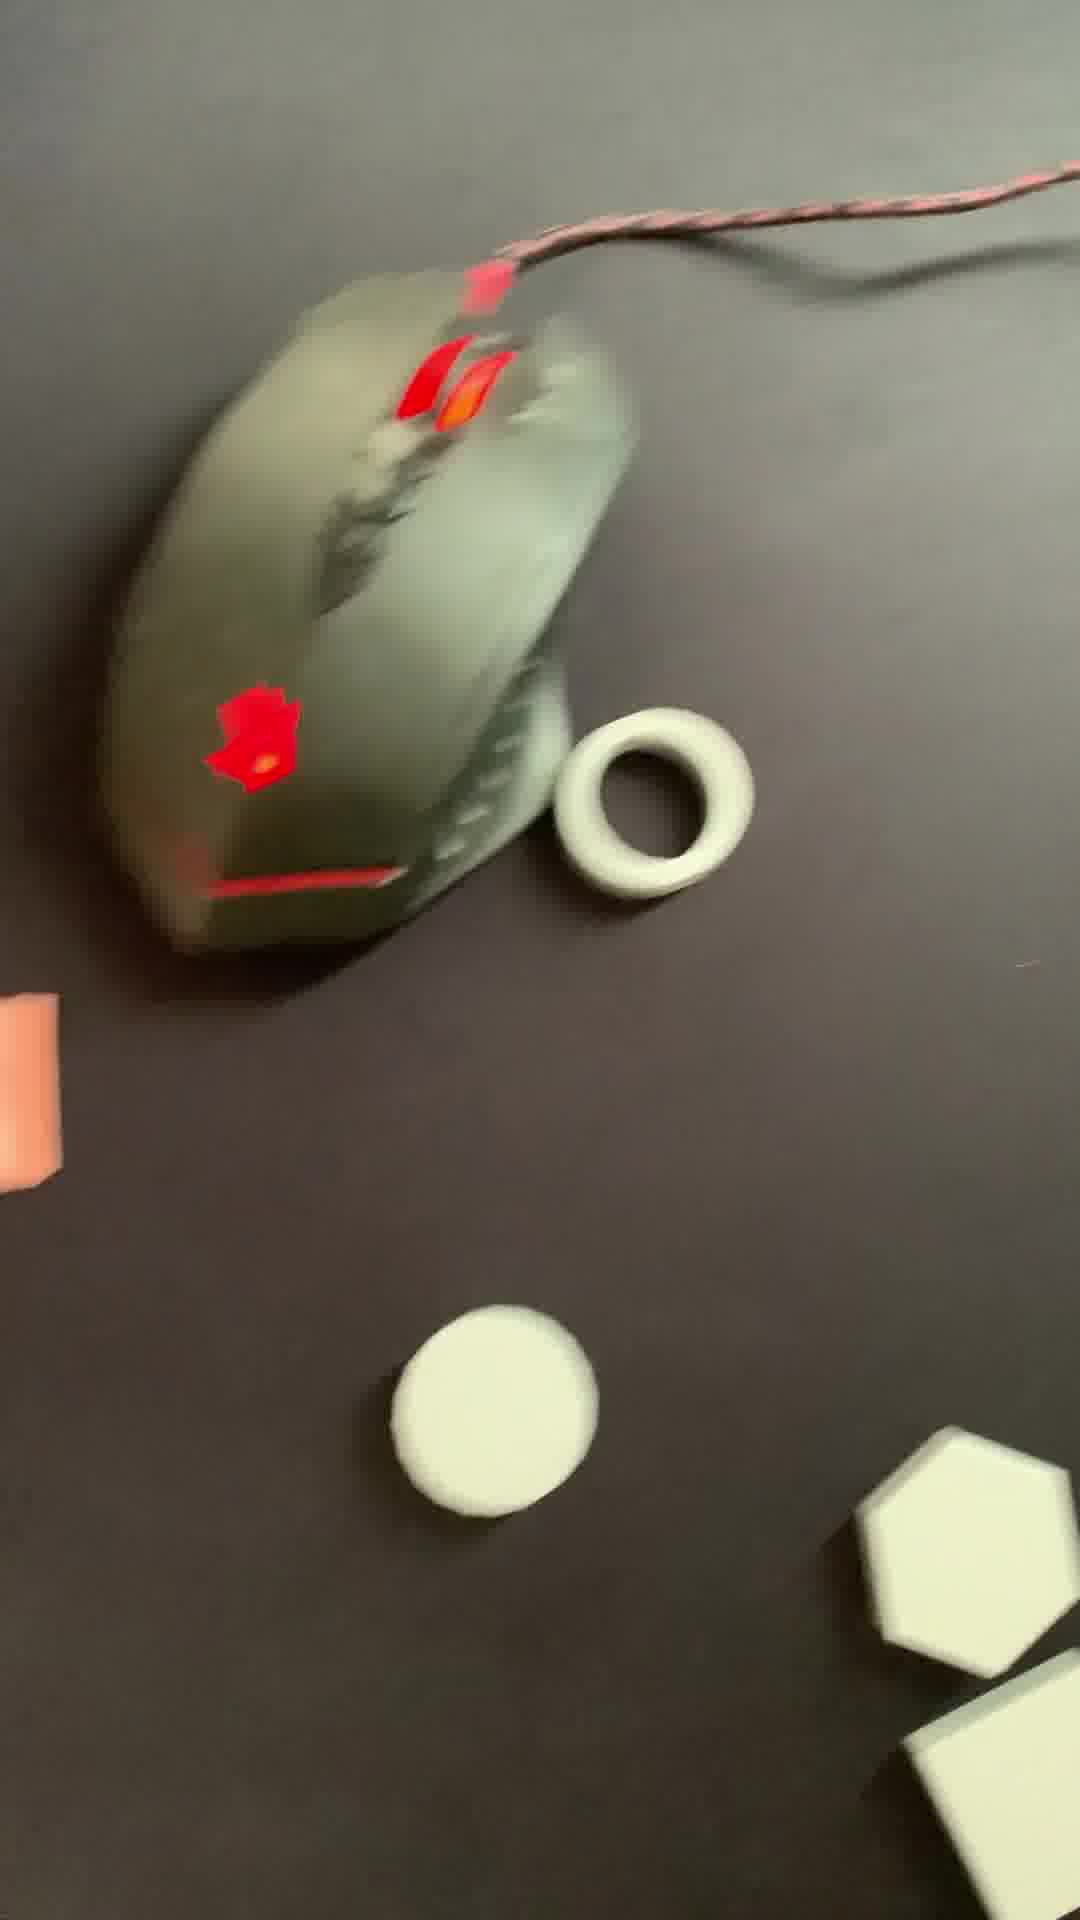Gray circle: (392, 1305, 605, 1526)
Gray hexagon: (855, 1429, 1080, 1675)
Gray ring: (543, 702, 774, 916)
Gray square: (895, 1650, 1080, 1920)
